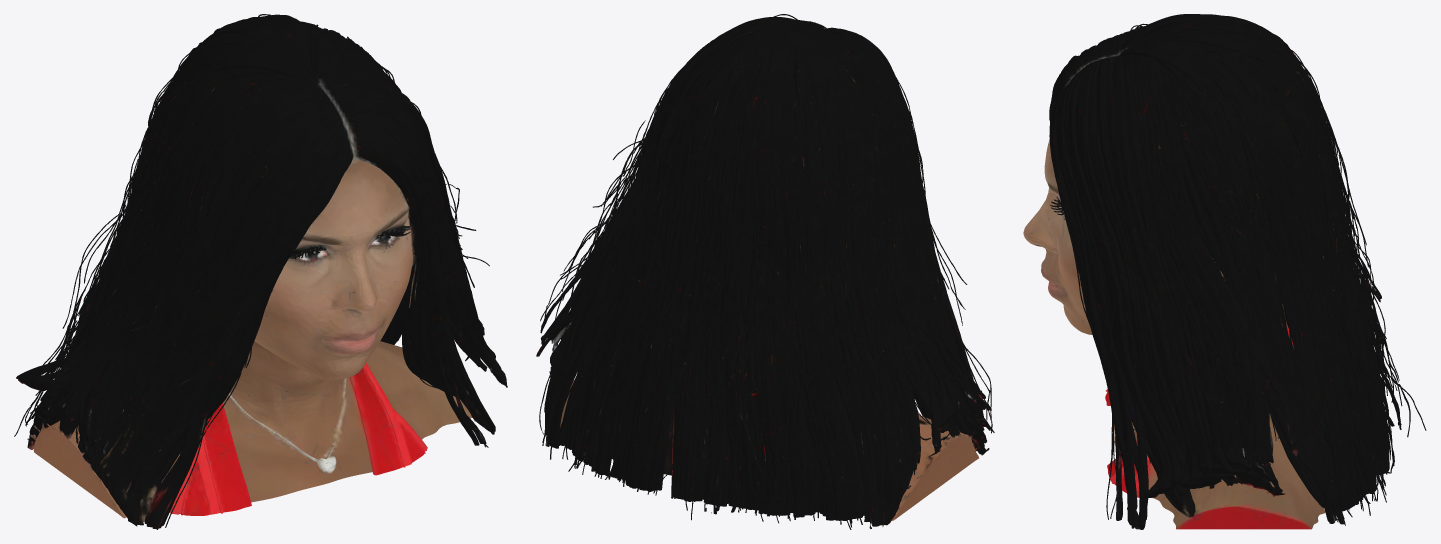
File: toni-braxton-3D-face.glb
3 renders of one model, left to right at view 1: azimuth 30°, elevation 25°; view 2: azimuth 150°, elevation 25°; view 3: azimuth 270°, elevation 25°, orthographic. The views are drawn at different scales.
Bounding box in the file's own units: 1.51 × 1.43 × 1.25.
Materials: 1 (1 with a texture image).
